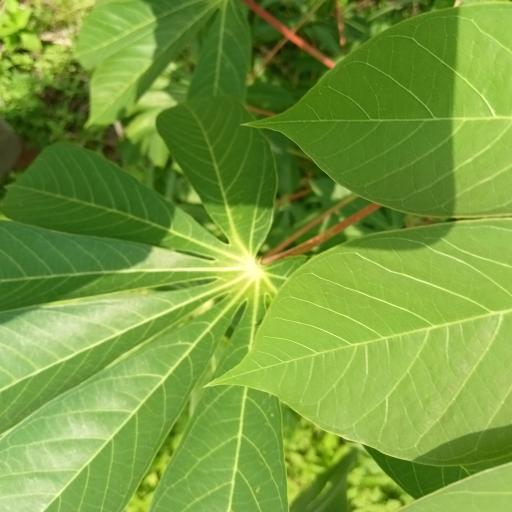Cassava_Healthy: (0, 94, 299, 512)
